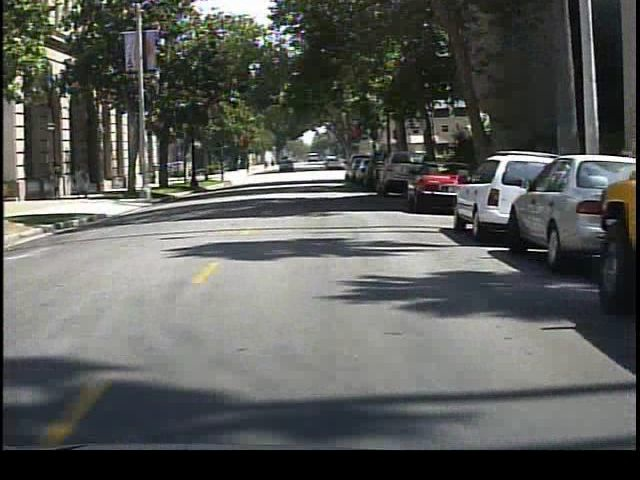person: (74, 160, 96, 199), (48, 154, 68, 195)
